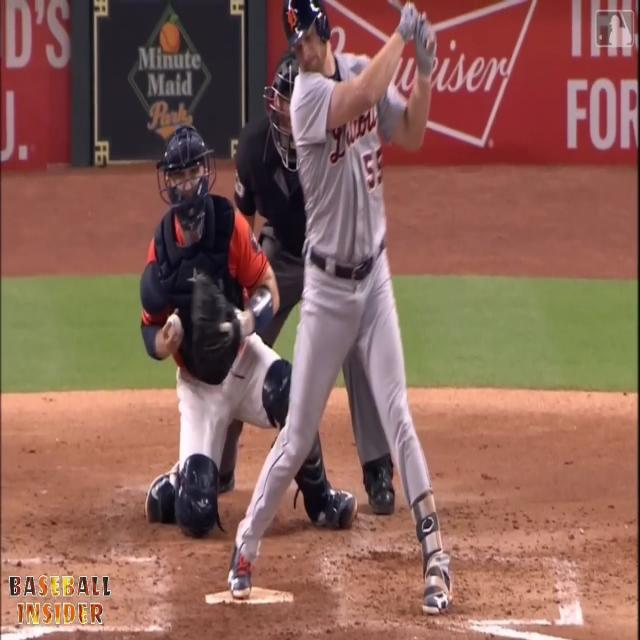baseball: (167, 314, 182, 338)
